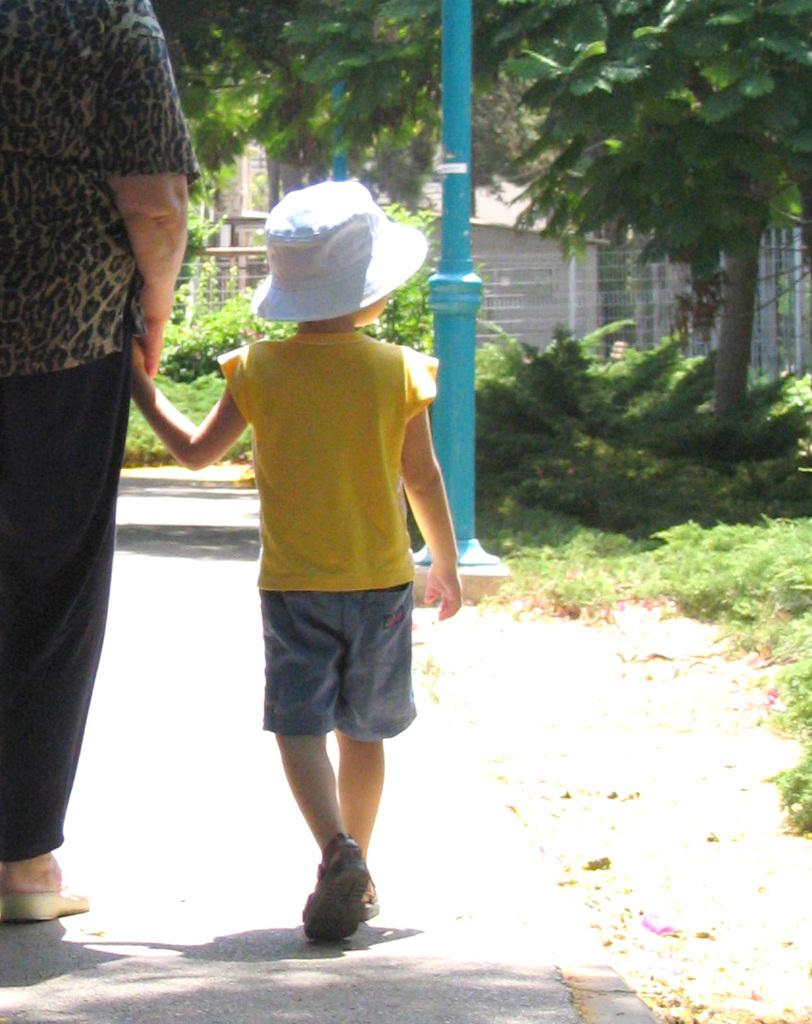Hat: (253, 178, 423, 320)
